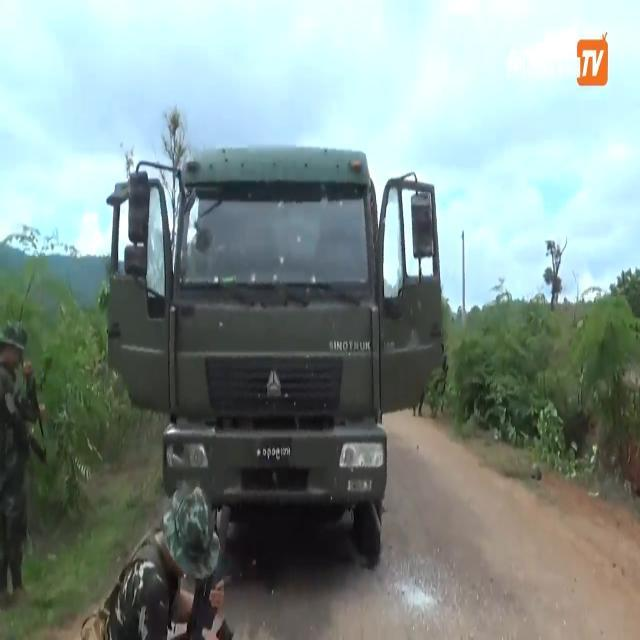MIL_Pax: (104, 484, 241, 640), (0, 322, 44, 594)
